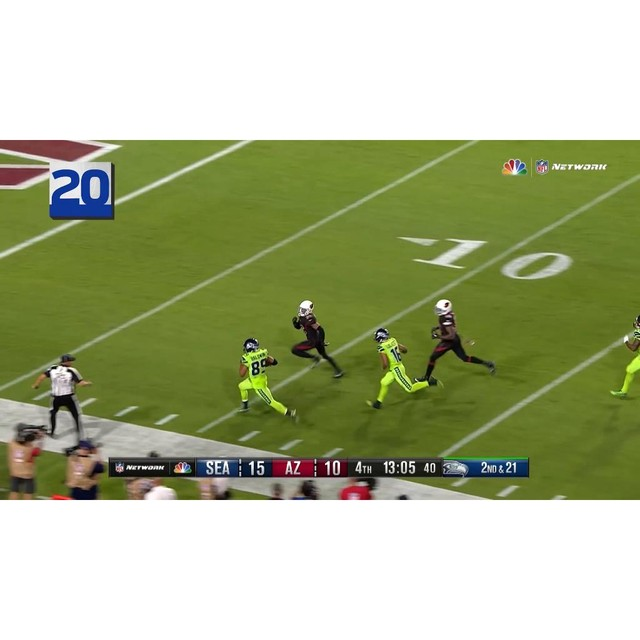american-football-player: (421, 298, 495, 386), (370, 327, 435, 412), (237, 338, 297, 422), (291, 300, 345, 377), (611, 316, 640, 399)
referee: (30, 352, 92, 438)
